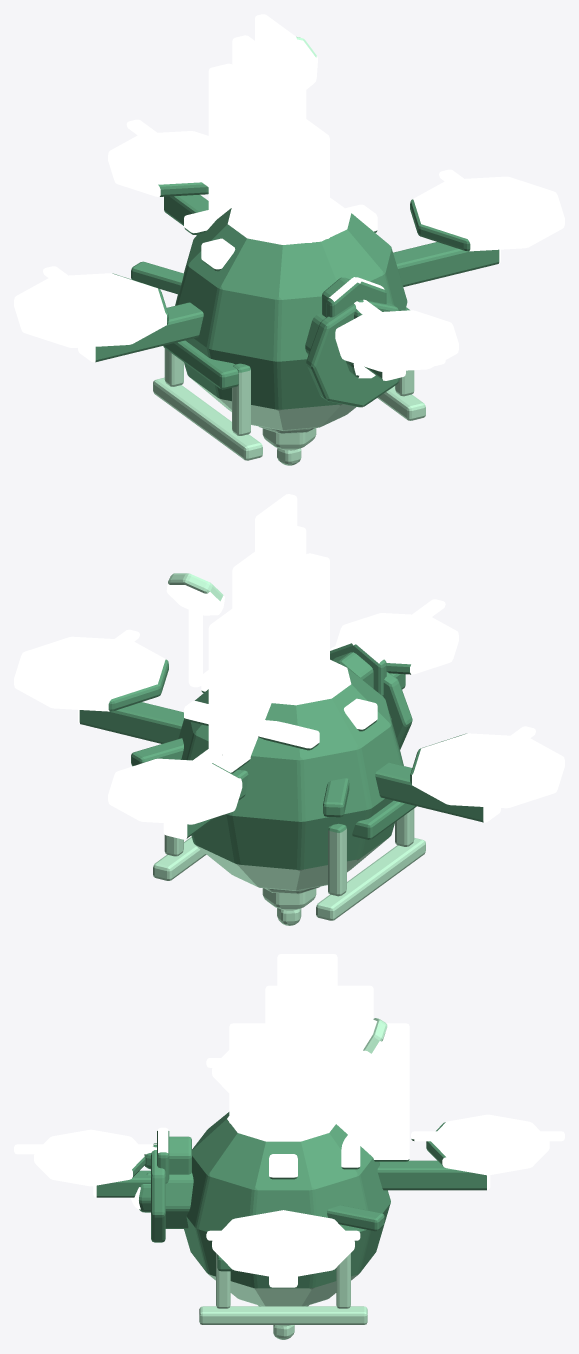
Rendered from Enemy_Drone.fbx.
3 views of the same model, one above another, from view 1: azimuth 30°, elevation 25°; view 2: azimuth 150°, elevation 25°; view 3: azimuth 270°, elevation 25° (orthographic). The views are drawn at different scales.
Visible parts, largest first — view 1: Enemy_Drone_Buffer_v4; view 2: Enemy_Drone_Buffer_v4; view 3: Enemy_Drone_Buffer_v4.
Part boxes in pixels (x1,y1,x2,y2): Enemy_Drone_Buffer_v4: (14,14,564,465); Enemy_Drone_Buffer_v4: (14,494,564,925); Enemy_Drone_Buffer_v4: (14,954,564,1339).
Bounding box in the file's own units: 2.29 × 1.76 × 2.29.
